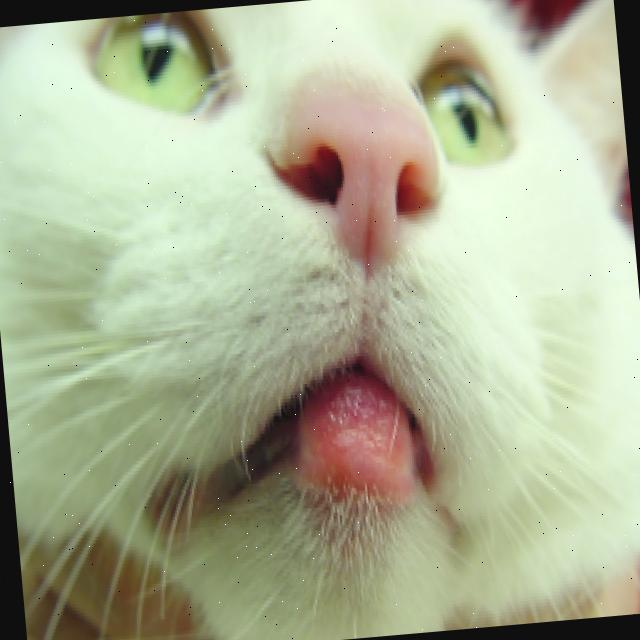cat-lump-and-bump: (312, 388, 402, 482)
